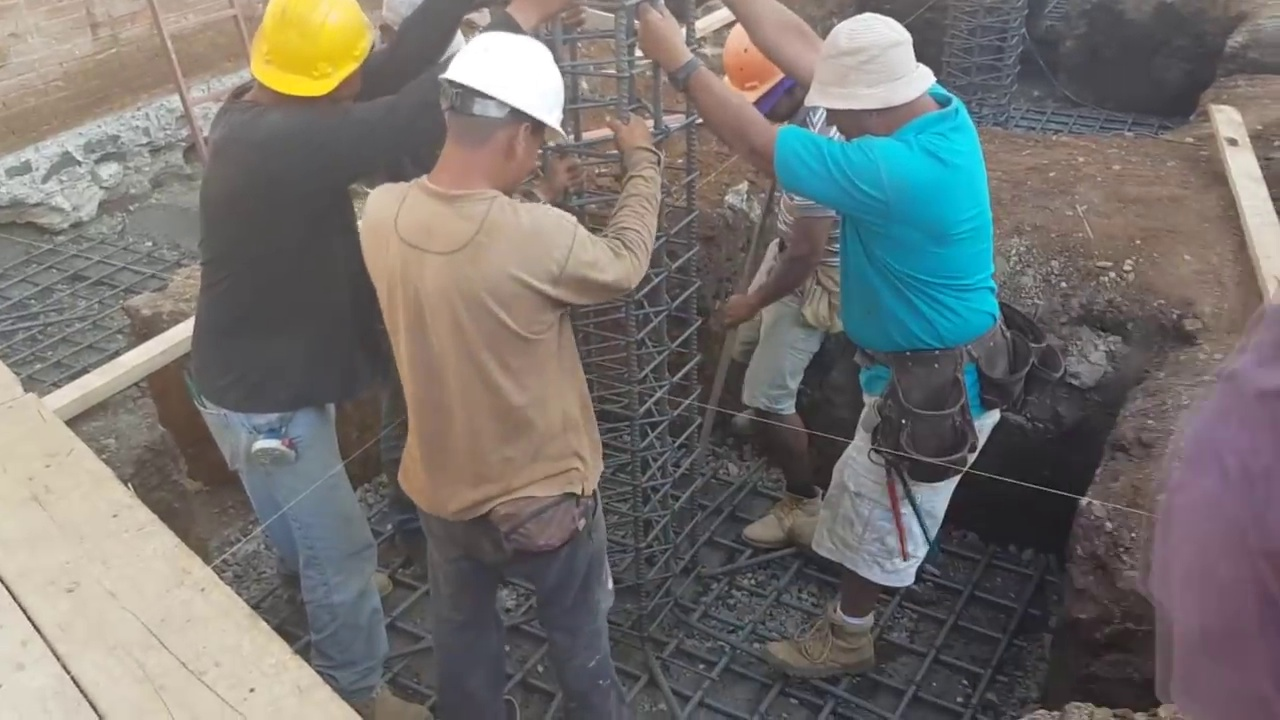helmet: (435, 26, 567, 141), (232, 1, 376, 97), (721, 8, 808, 112)
helmet-off: (802, 13, 949, 142)
helmet-on: (418, 21, 568, 198), (225, 5, 380, 122), (717, 17, 825, 129)
person: (334, 18, 687, 720), (673, 6, 1004, 662), (179, 0, 438, 712), (698, 5, 858, 557)
